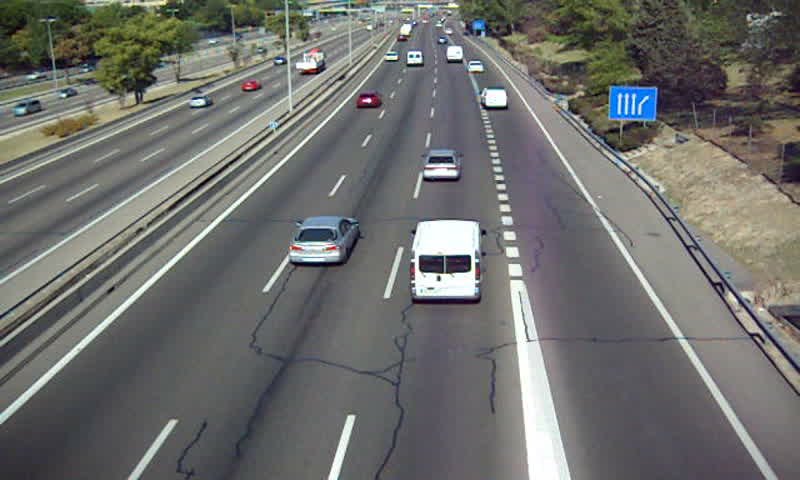car: (289, 216, 359, 264), (421, 150, 462, 182), (356, 91, 382, 107), (467, 60, 485, 74)
van: (408, 220, 481, 303), (481, 87, 507, 109), (445, 46, 465, 63), (405, 50, 423, 67)
